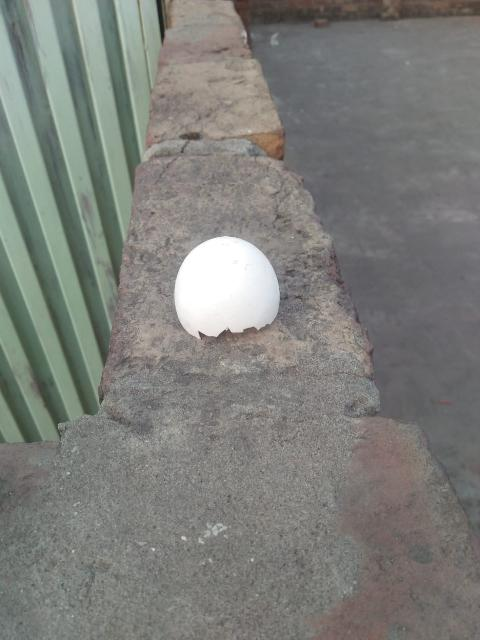Roto: (173, 234, 280, 340)
